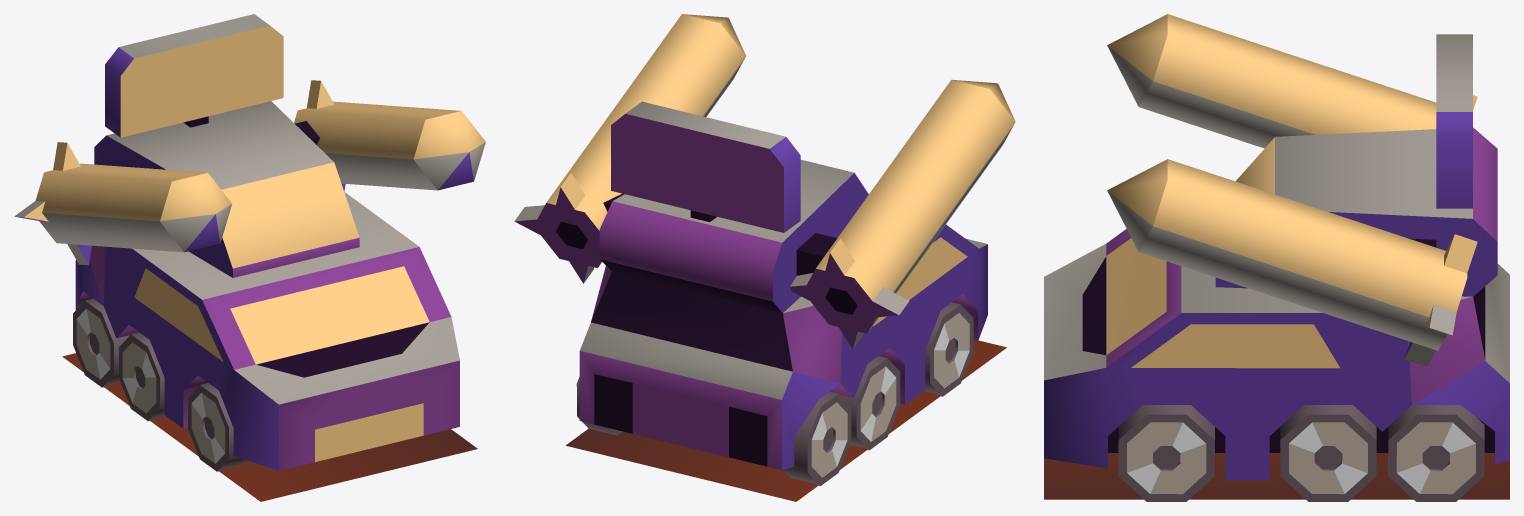
File: MissileMesh.BlackHole.glb
3 renders of one model, left to right at view 1: azimuth 30°, elevation 25°; view 2: azimuth 150°, elevation 25°; view 3: azimuth 270°, elevation 25°, orthographic. The views are drawn at different scales.
Parts seen in each view (by area): view 1: MissileMesh.BlackHole; view 2: MissileMesh.BlackHole; view 3: MissileMesh.BlackHole.
Part boxes in pixels (x1=…): MissileMesh.BlackHole: x1=14, y1=14, x2=485, y2=501; MissileMesh.BlackHole: x1=514, y1=14, x2=1015, y2=501; MissileMesh.BlackHole: x1=1044, y1=14, x2=1509, y2=501.
Bounding box in the file's own units: 2 × 1.65 × 1.9.
Materials: 1 (1 with a texture image).
